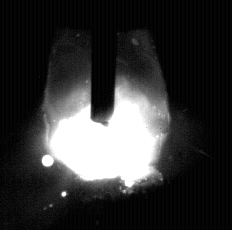arame: (91, 0, 116, 127)
poca: (44, 0, 168, 230)
